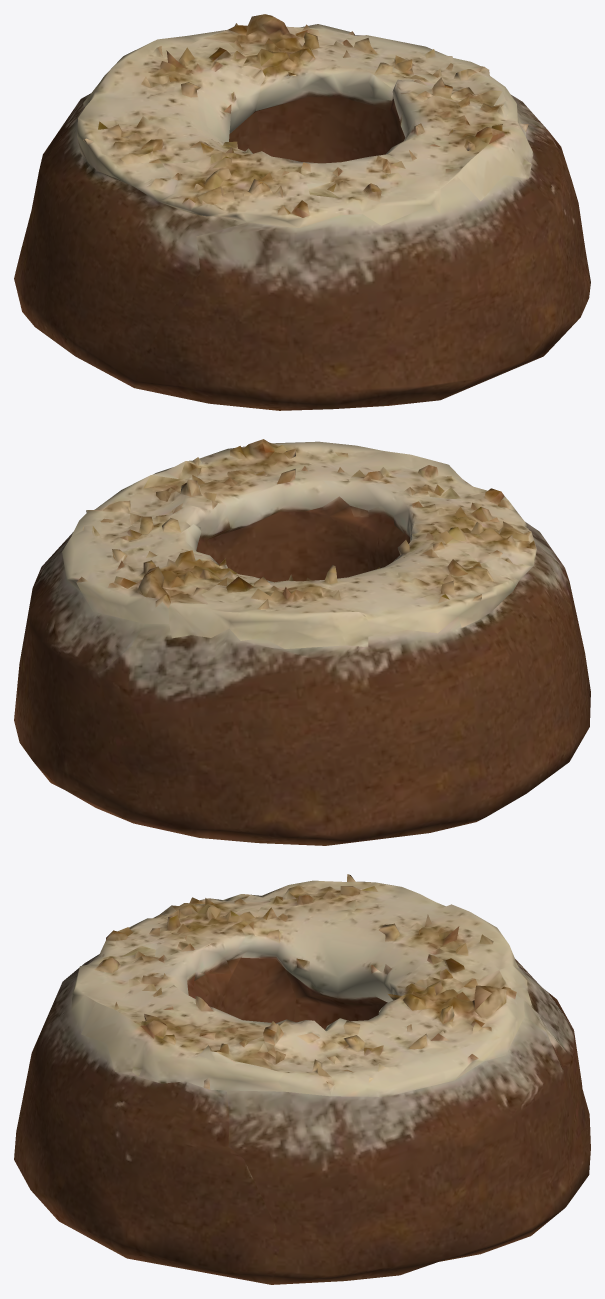
Rendered from carrot_cake.glb.
3 renders of one model, top to bottom at view 1: azimuth 30°, elevation 25°; view 2: azimuth 150°, elevation 25°; view 3: azimuth 270°, elevation 25°, orthographic. The views are drawn at different scales.
Parts seen in each view (by area): view 1: carrot_cake; view 2: carrot_cake; view 3: carrot_cake.
Part boxes in pixels (x1=…): carrot_cake: x1=14, y1=14, x2=590, y2=410; carrot_cake: x1=14, y1=439, x2=590, y2=845; carrot_cake: x1=14, y1=874, x2=590, y2=1284.
Bounding box in the file's own units: 0.2247 × 0.0965 × 0.2257.
Materials: 1 (1 with a texture image).
